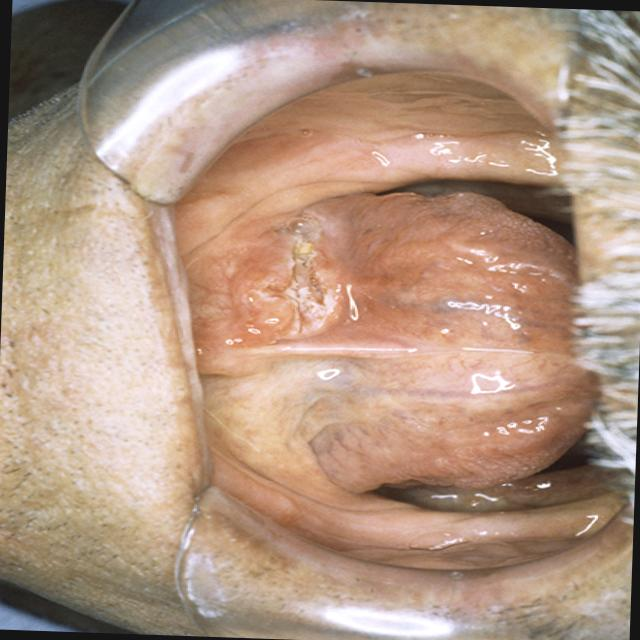Cancer: (173, 148, 450, 567)
